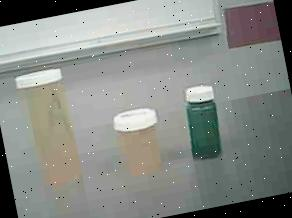Bottle A: (11, 60, 98, 194)
Bottle B: (108, 98, 176, 186)
Bottle C: (178, 78, 232, 174)
